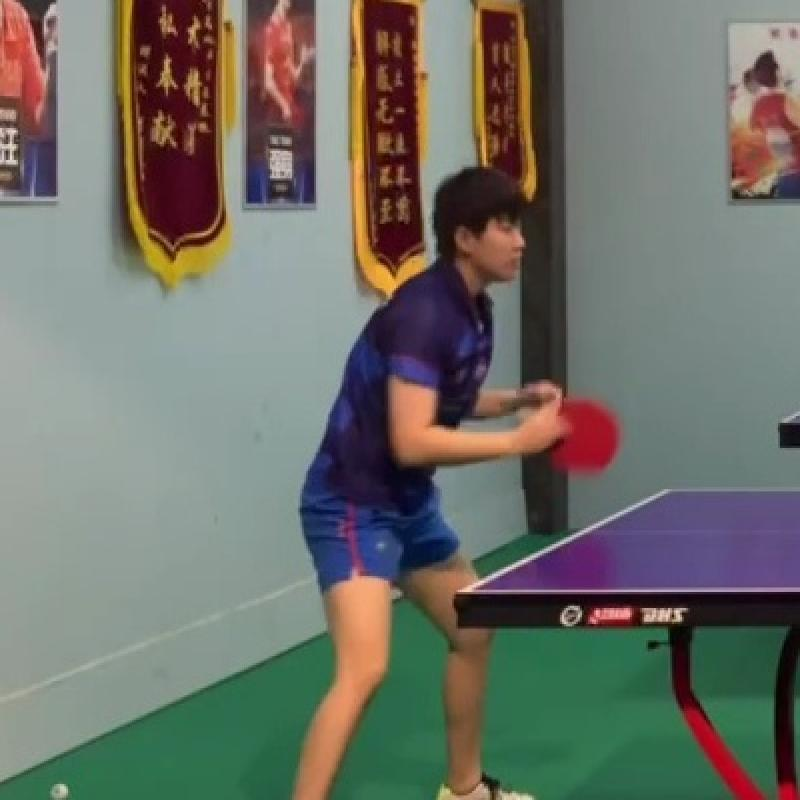bats: (529, 388, 631, 489)
